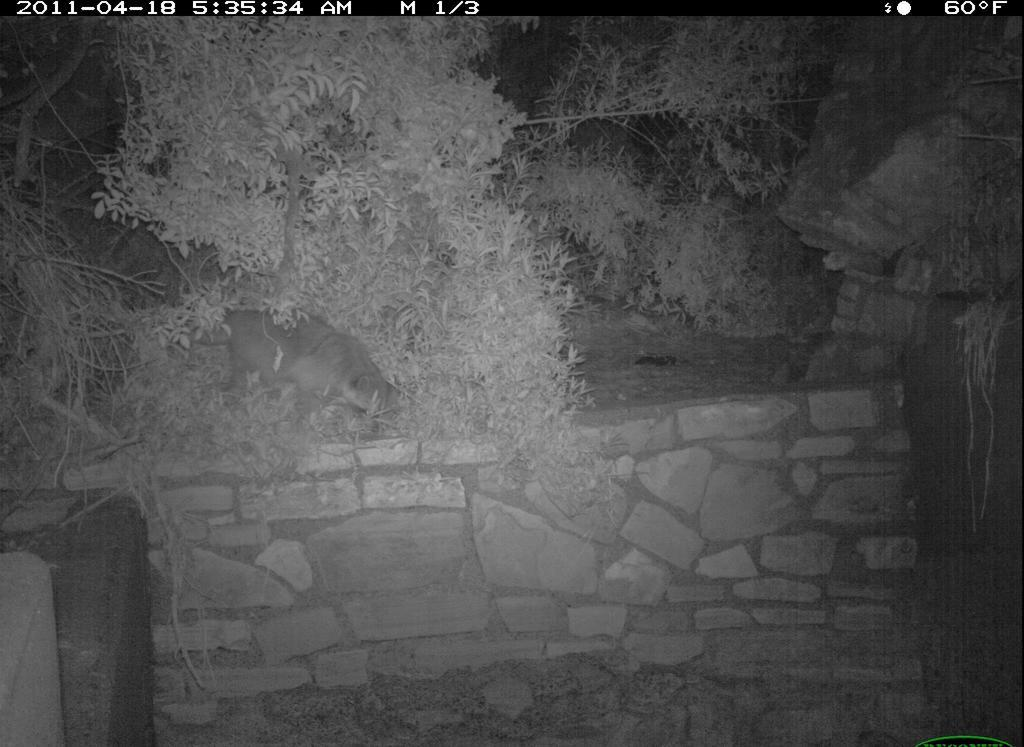raccoon: (194, 299, 409, 438)
